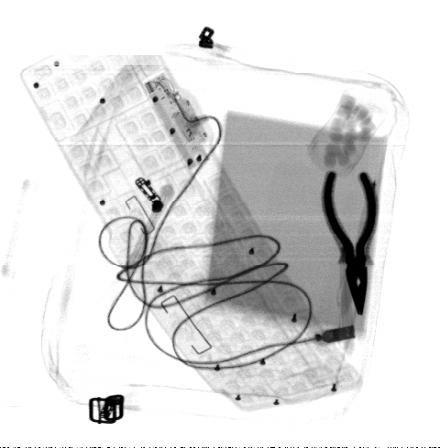Pliers: (321, 170, 380, 318)
